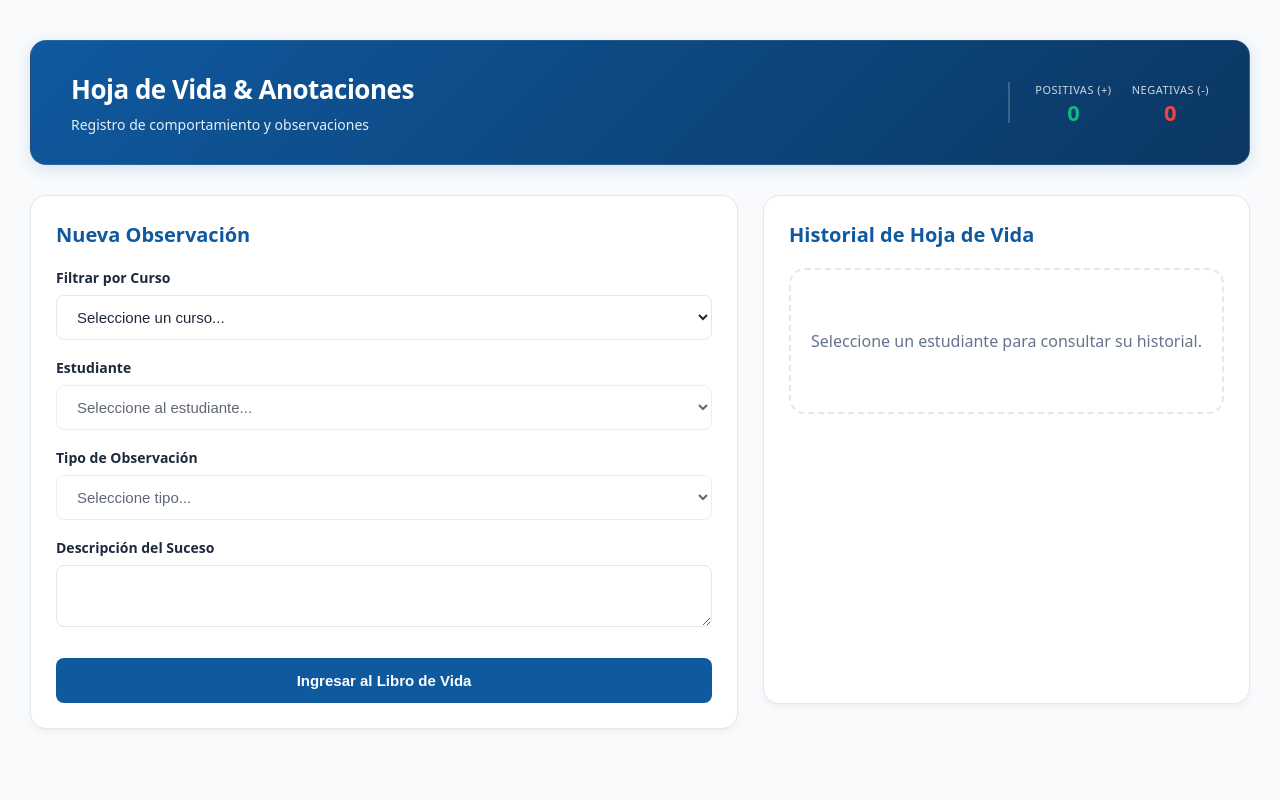
Test: Anotaciones › debe impedir el registro cuando no se puede identificar al docente
Select "1°A" in the dropdown below "Filtrar por Curso" at (384, 318), box [56,295,712,340]
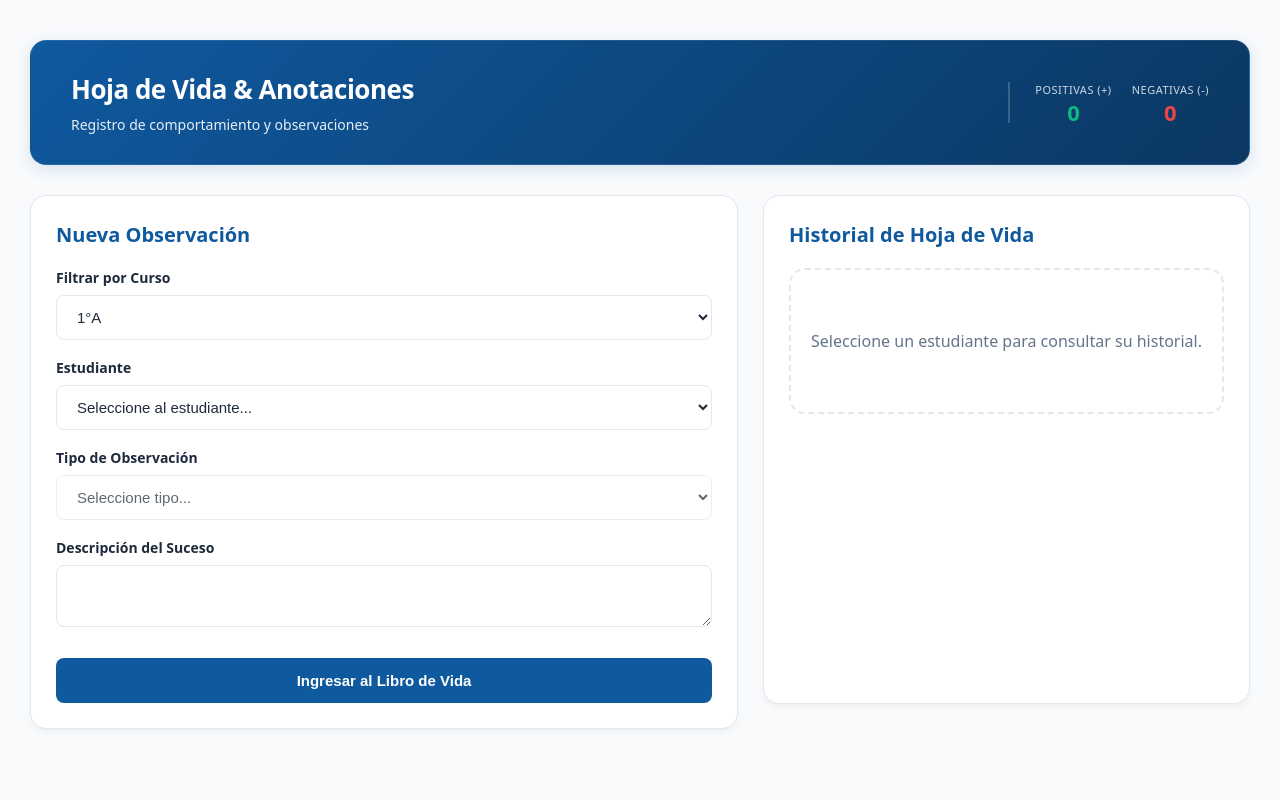
Select "Pérez, Juan" in the 2nd dropdown at (384, 408), box [56,385,712,430]
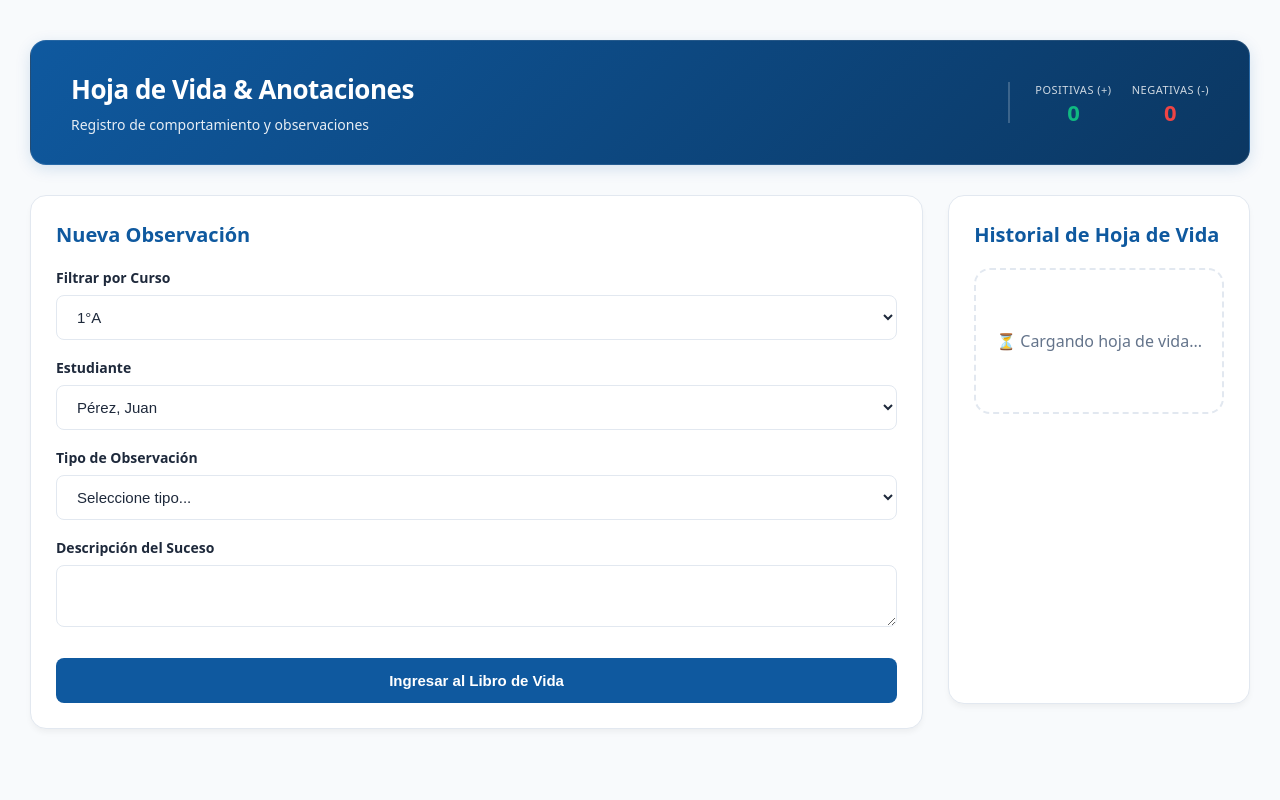
Select "Positiva" in the dropdown below "Tipo de Observación" at (477, 498), box [56,475,897,520]
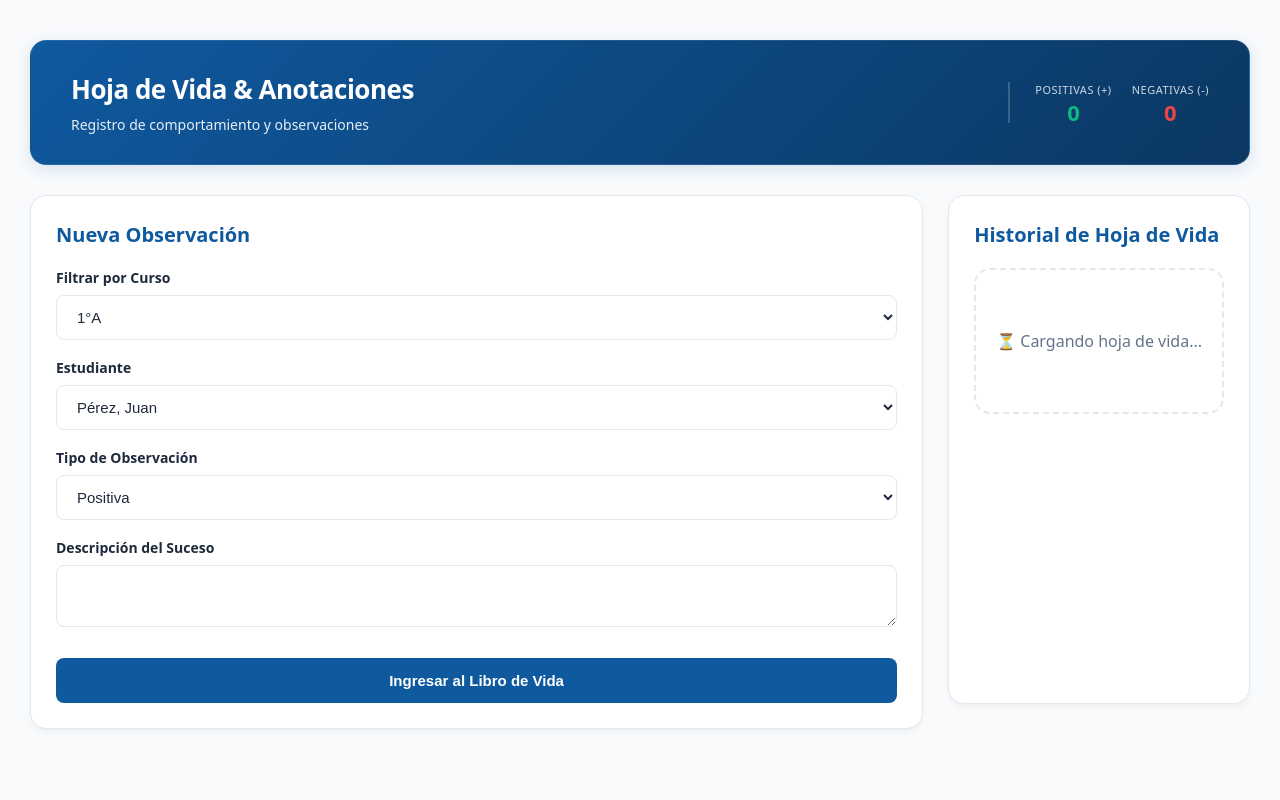
Type "Excelente participación" into the text box named "Descripción del Suceso" at (477, 596), box [56,565,897,627]
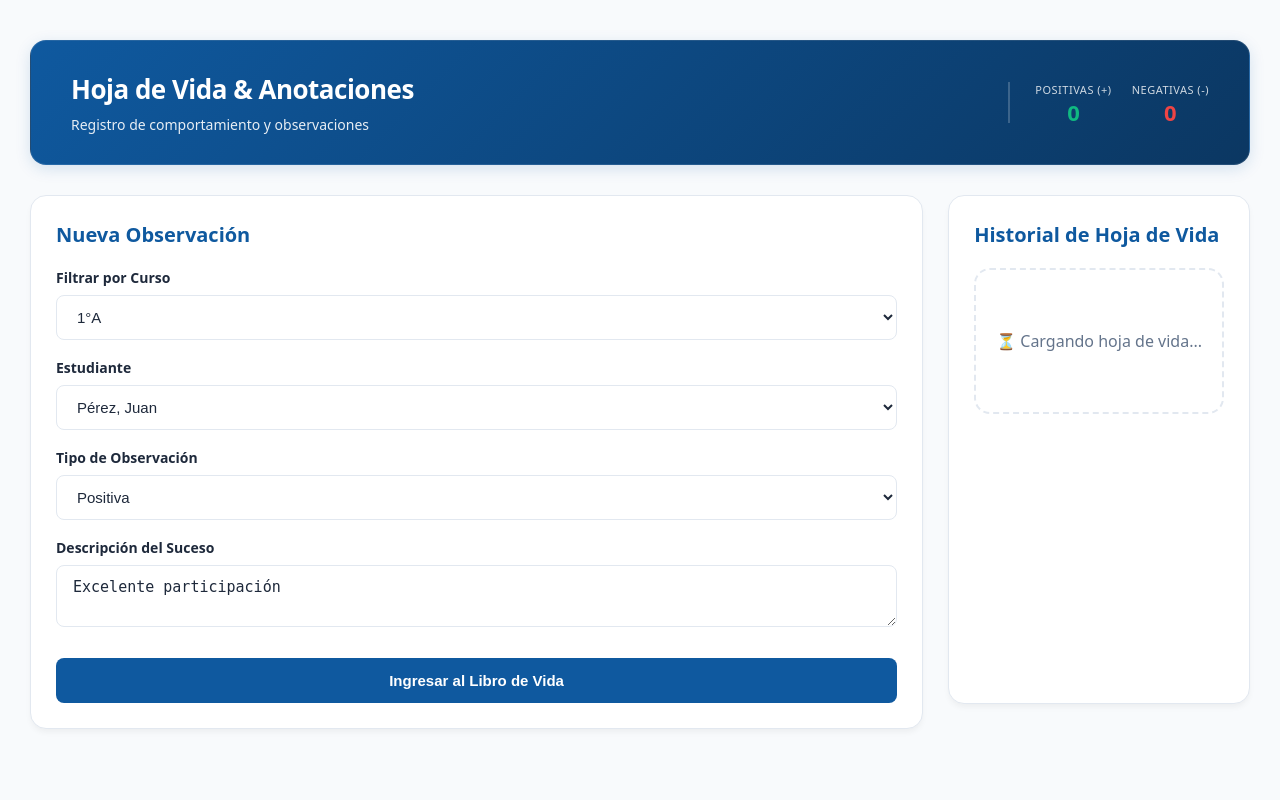
Click the button "Ingresar al Libro de Vida" at (477, 680), box [56,658,897,703]
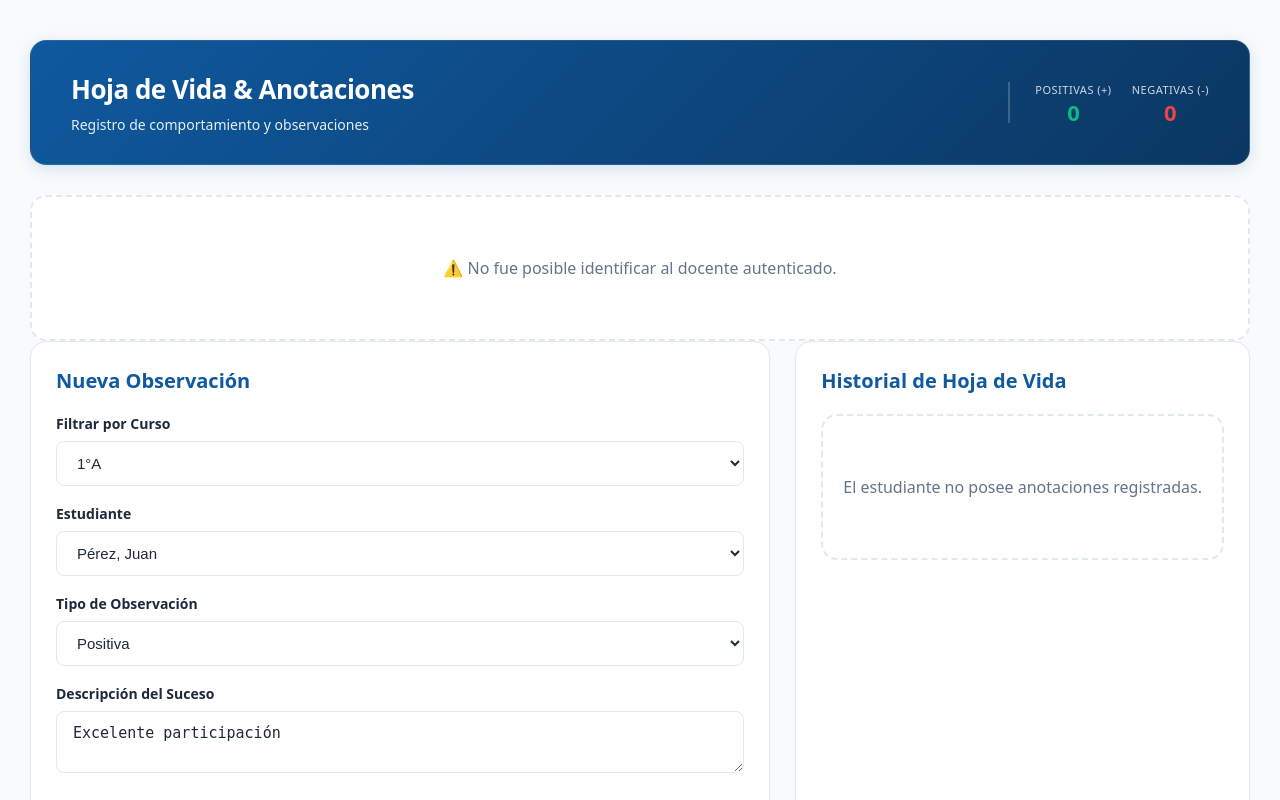
Result: the text "⚠️ No fue posible identificar al docente autenticado." is shown at [30,195,1250,341]
